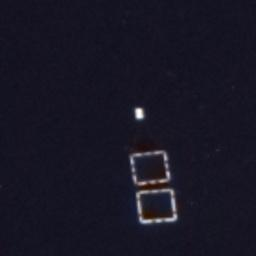square_solid: (132, 183, 181, 227), (127, 147, 173, 188)
